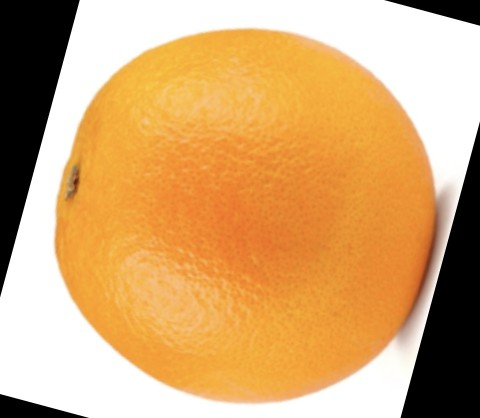fresh_orange: (55, 27, 435, 401)
